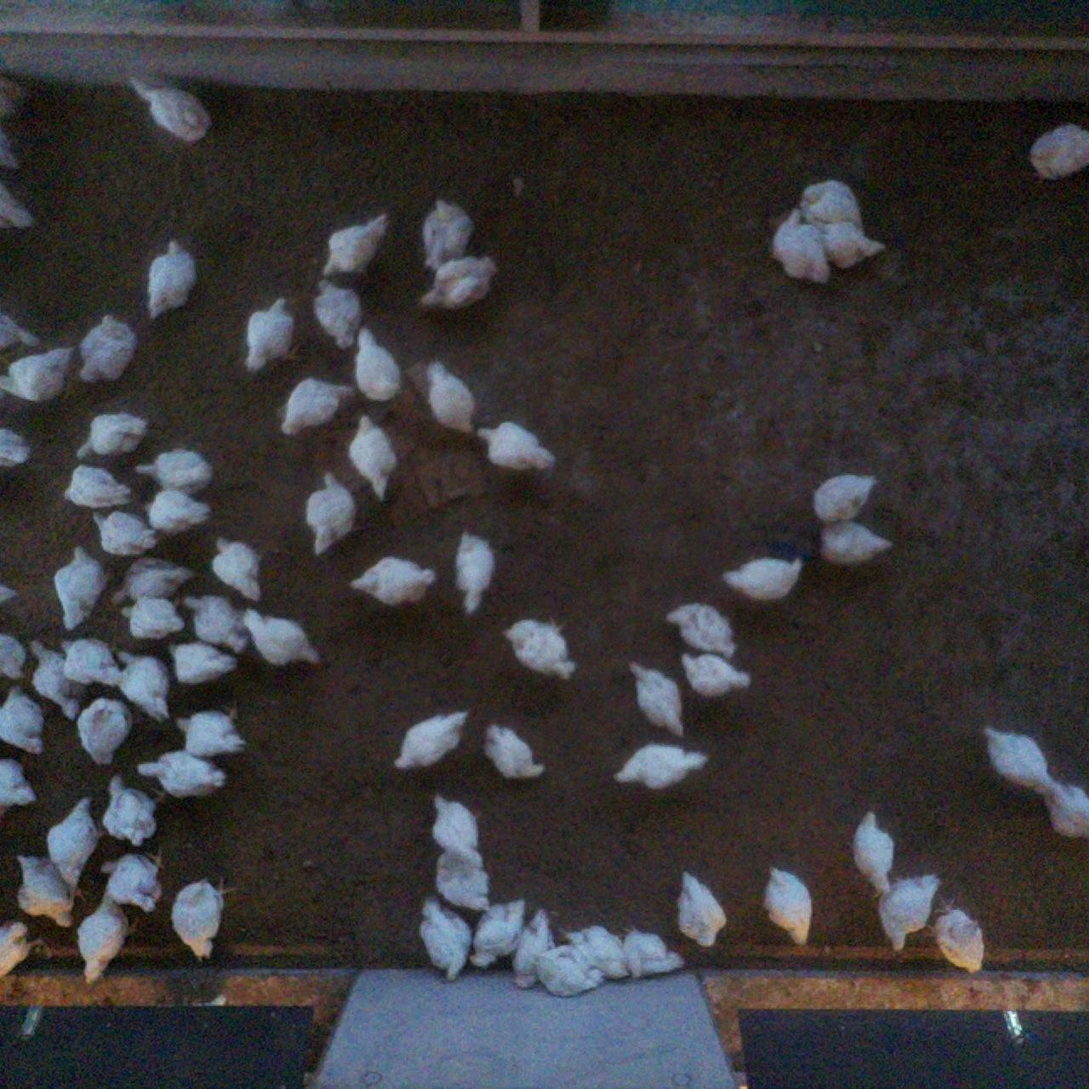chicken: (75, 884, 145, 986), (127, 69, 215, 149), (976, 721, 1065, 800), (44, 792, 110, 894), (10, 851, 92, 931), (168, 873, 240, 964), (761, 205, 837, 291), (342, 551, 440, 616), (922, 892, 995, 978), (875, 870, 945, 958), (617, 655, 689, 740), (239, 606, 327, 673), (801, 210, 889, 277), (608, 738, 710, 795), (143, 235, 205, 328), (47, 542, 109, 635), (501, 612, 584, 681), (98, 769, 169, 849), (417, 893, 478, 986), (299, 466, 359, 560), (390, 708, 475, 774), (416, 250, 500, 316), (319, 210, 396, 281), (278, 373, 356, 443), (0, 341, 77, 411), (473, 418, 560, 479), (757, 863, 817, 951), (97, 842, 170, 914), (24, 636, 85, 722), (74, 311, 143, 387), (843, 806, 899, 899), (662, 596, 742, 661), (425, 788, 489, 869), (110, 647, 174, 728), (135, 748, 230, 802), (470, 896, 534, 976), (718, 550, 807, 607), (672, 868, 733, 951), (346, 413, 401, 505), (108, 552, 198, 608), (422, 352, 481, 437), (416, 193, 477, 275), (351, 319, 407, 408), (172, 700, 253, 761), (616, 917, 688, 983), (180, 591, 254, 655), (74, 695, 137, 770), (479, 718, 547, 786), (1021, 118, 1089, 186), (241, 293, 298, 374), (449, 526, 499, 618), (430, 846, 495, 915), (559, 918, 632, 979), (814, 517, 896, 571), (531, 939, 607, 997), (809, 469, 880, 531), (510, 905, 560, 993), (71, 410, 152, 464), (797, 174, 869, 233), (137, 446, 220, 497), (138, 486, 215, 540), (208, 532, 266, 603), (84, 505, 160, 559), (678, 647, 754, 700), (61, 461, 138, 513), (165, 637, 238, 691), (56, 636, 126, 691), (0, 684, 50, 760), (117, 593, 186, 643), (1042, 780, 1089, 844), (0, 917, 46, 980), (0, 756, 39, 824), (0, 178, 41, 237), (0, 309, 46, 359), (0, 423, 36, 479), (0, 632, 34, 682)
